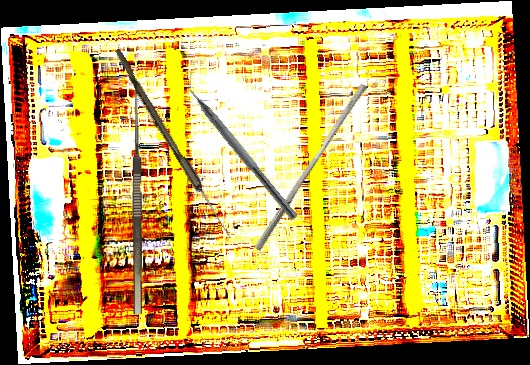Chopper: (175, 69, 308, 221)
Hook Surgical: (121, 85, 142, 314)
Pusher: (254, 79, 368, 256)
Surgical Spoon: (110, 48, 236, 241)
